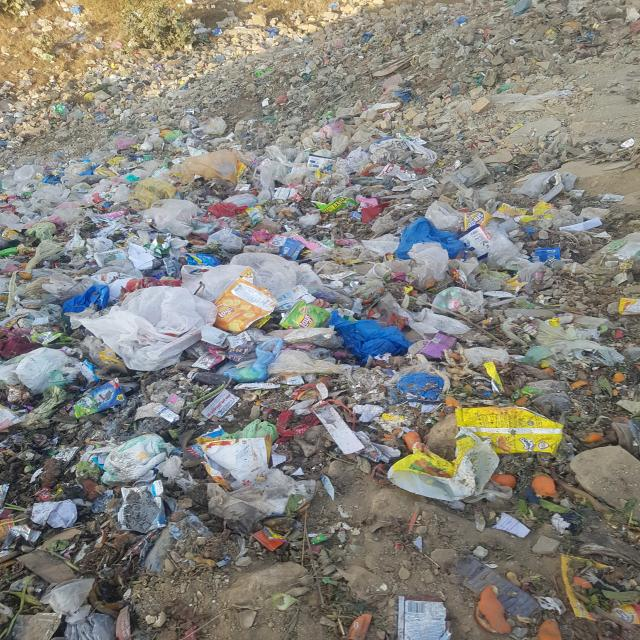electronic: (452, 405, 564, 456), (192, 432, 292, 487), (211, 276, 279, 333), (396, 595, 451, 639)
general: (96, 284, 211, 369), (342, 312, 412, 369), (163, 146, 255, 185), (404, 236, 458, 292), (399, 206, 472, 244)
